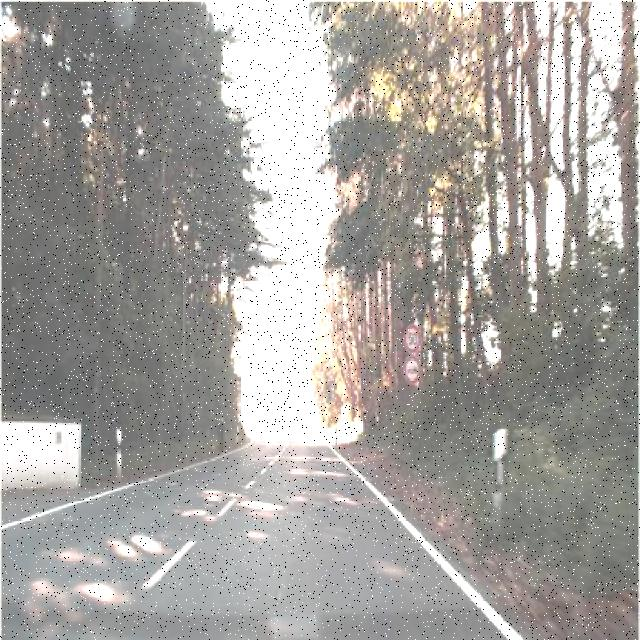Ograniczenie predkosci do 50: (402, 320, 424, 356)
